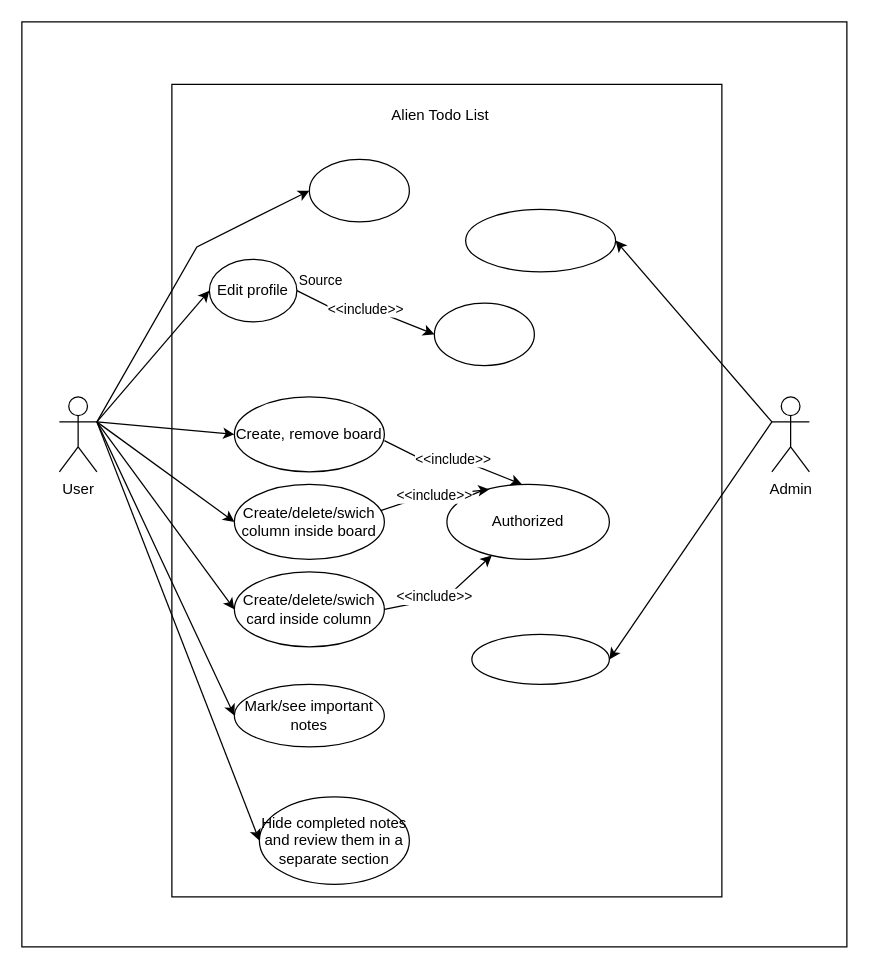
Some shapes in this 869 by 969 pixel diagram are drawn without their labels. Here are the shapes that lost their labels. From the top down, the centre of each, then its label:
(x=358, y=190): Register/Login
(x=540, y=240): Manage application users
(x=483, y=334): Authenticated
(x=540, y=658): Ban, delete user's account
